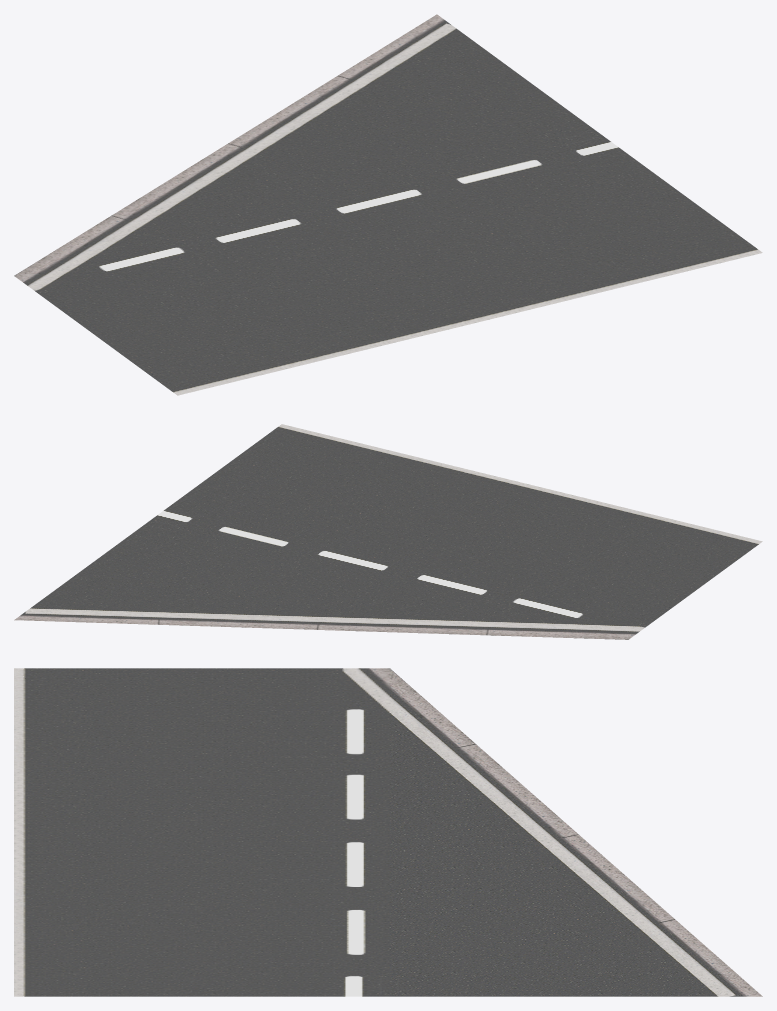
File: 2 to 4 lines enter.FBX
3 renders of one model, top to bottom at view 1: azimuth 30°, elevation 25°; view 2: azimuth 150°, elevation 25°; view 3: azimuth 270°, elevation 25°, orthographic. The views are drawn at different scales.
Parts seen in each view (by area): view 1: Plane015; view 2: Plane015; view 3: Plane015.
Part boxes in pixels (x1=…): Plane015: x1=14, y1=14, x2=762, y2=395; Plane015: x1=14, y1=424, x2=762, y2=639; Plane015: x1=14, y1=668, x2=762, y2=996.
Size of the model in its own units: 12 by 3.28e-15 by 11.57.
